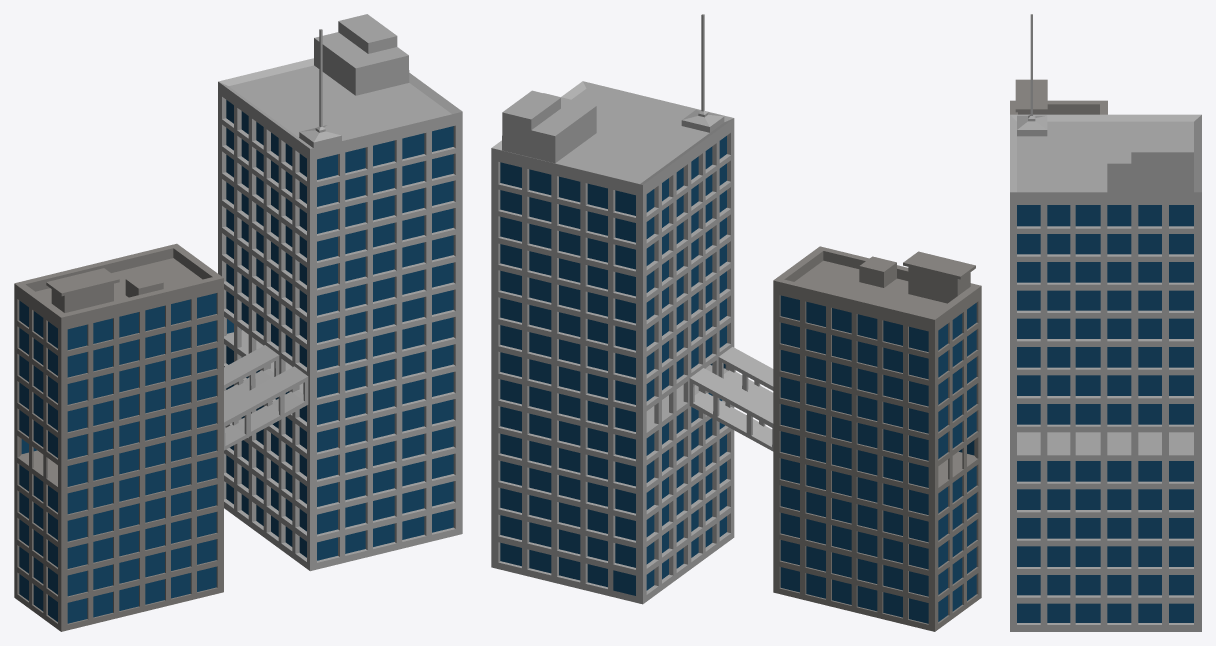
File: BuildingsTempo.fbx
The picture shows the model from 3 angles, left to right: view 1: azimuth 30°, elevation 25°; view 2: azimuth 150°, elevation 25°; view 3: azimuth 270°, elevation 25°; orthographic projection. The views are drawn at different scales.
Parts seen in each view (by area): view 1: Cube, gratte-ciel, Plane.002, Plane.004; view 2: Cube, gratte-ciel, Plane.004, Plane.002; view 3: Cube, gratte-ciel.
Boxes of the visible parts, box(x1,y1,x2,y2) form: Cube: box(218, 14, 462, 571); gratte-ciel: box(14, 243, 223, 631); Plane.002: box(224, 366, 308, 450); Plane.004: box(224, 345, 279, 404); Cube: box(491, 14, 734, 604); gratte-ciel: box(773, 246, 981, 631); Plane.004: box(689, 368, 773, 451); Plane.002: box(718, 347, 773, 405); Cube: box(1010, 14, 1201, 631); gratte-ciel: box(1010, 79, 1107, 114).
Bounding box in the file's own units: 9867 × 12416 × 3918.
